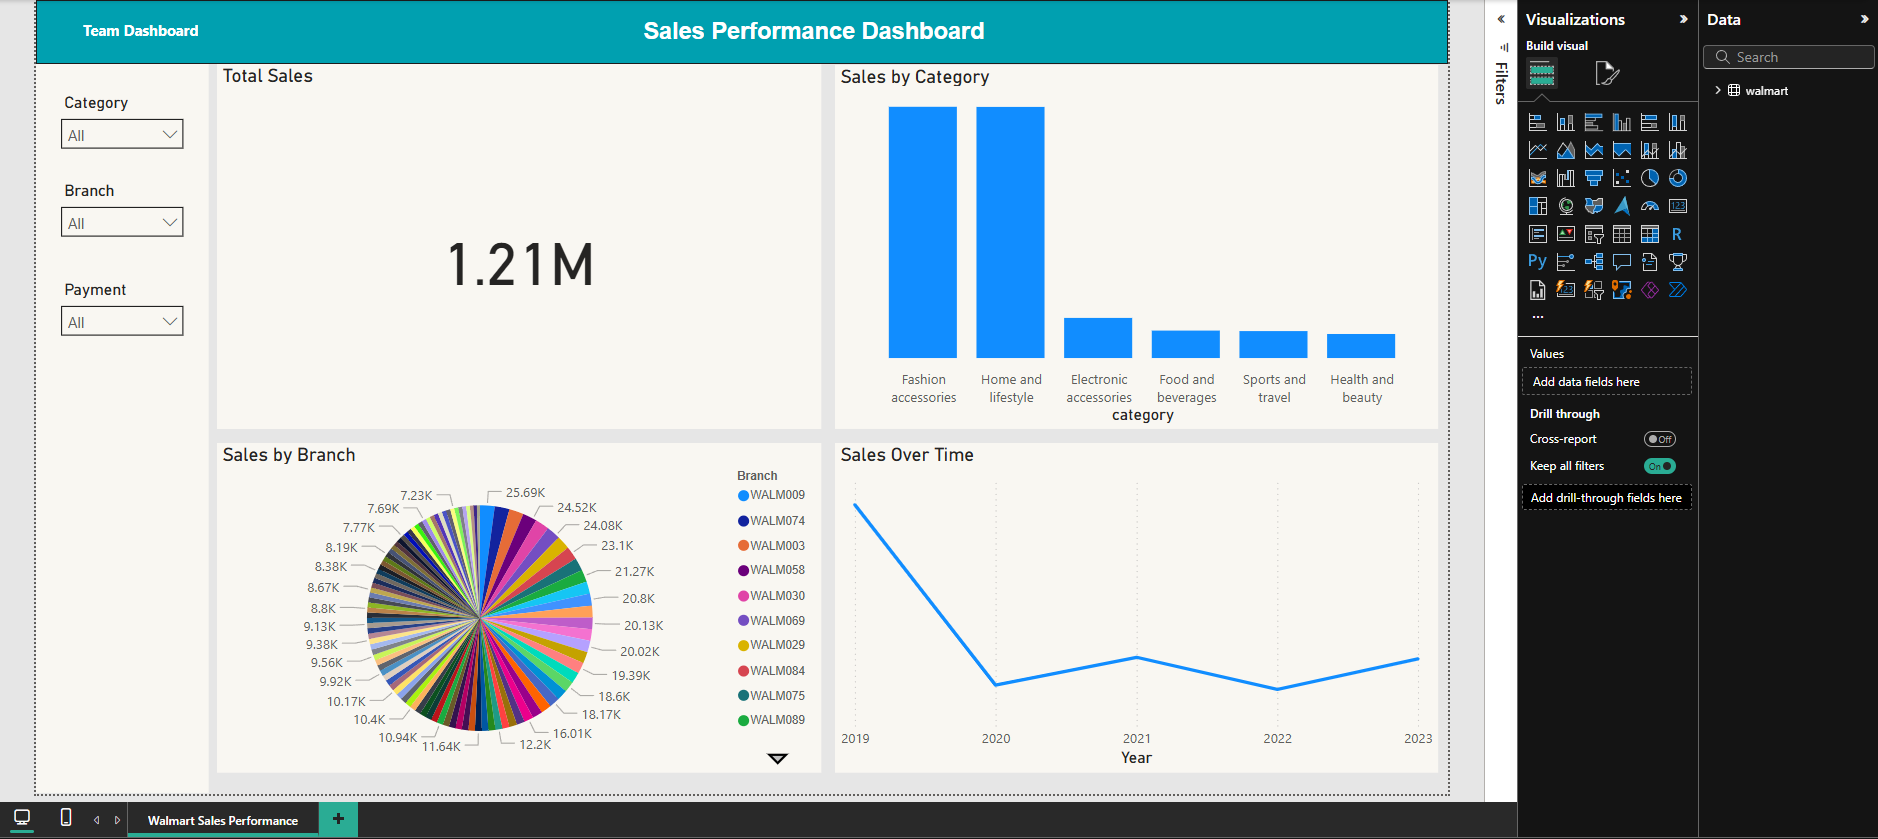

Layout of this report page (visuals, bound fields, positions):
{"tool":"powerbi","page":{"name":"Walmart Sales Performance","canvas":[1280,720],"ordinal":0},"visuals":[{"type":"shape","box":[0,58.4,156.6,661.4],"z":0},{"type":"shape","box":[0,0,1280,58.4],"z":1000},{"type":"textbox","box":[25.3,14,139.1,29],"z":2000},{"type":"pieChart","title":"Sales by Branch","fields":{"Category":["walmart.Branch"],"Y":["Sum(walmart.total_price)"]},"box":[164.4,401.7,547.6,298.6],"z":3000},{"type":"card","title":"Total Sales","fields":{"Values":["Sum(walmart.total_price)"]},"box":[164.4,58.4,547.6,330.7],"z":4000},{"type":"clusteredColumnChart","title":"Sales by Category","fields":{"Category":["walmart.category"],"Y":["Sum(walmart.total_price)"]},"box":[724.6,59.3,546.6,329.7],"z":5000},{"type":"lineChart","title":"Sales Over Time","fields":{"Category":["walmart.date.Variation.Date Hierarchy.Year","walmart.date.Variation.Date Hierarchy.Quarter","walmart.date.Variation.Date Hierarchy.Month","walmart.date.Variation.Date Hierarchy.Day"],"Y":["Sum(walmart.total_price)"]},"box":[724.6,401.7,546.6,298.6],"z":6000},{"type":"slicer","fields":{"Values":["walmart.category"]},"box":[12.6,79.8,131.3,59.3],"z":7000},{"type":"slicer","fields":{"Values":["walmart.Branch"]},"box":[12.6,159.5,131.3,59.3],"z":8000},{"type":"slicer","fields":{"Values":["walmart.payment_method"]},"box":[12.6,249,131.3,59.3],"z":9000},{"type":"textbox","title":"Sales Performance Dashboard","box":[199.4,11.7,1011.6,46.7],"z":10000}]}

Visuals, with their boxes on the page's 1280x720 design canvas (x1, y1, x2, y2). These are canvas units, not pixel positions in the 1878x839 screenshot, which may show the page scaled, cropped or inside an application window:
shape: 0/58/157/720
shape: 0/0/1280/58
textbox: 25/14/164/43
"Sales by Branch" pieChart: 164/402/712/700
"Total Sales" card: 164/58/712/389
"Sales by Category" clusteredColumnChart: 725/59/1271/389
"Sales Over Time" lineChart: 725/402/1271/700
slicer - walmart.category: 13/80/144/139
slicer - walmart.Branch: 13/160/144/219
slicer - walmart.payment_method: 13/249/144/308
"Sales Performance Dashboard" textbox: 199/12/1211/58
